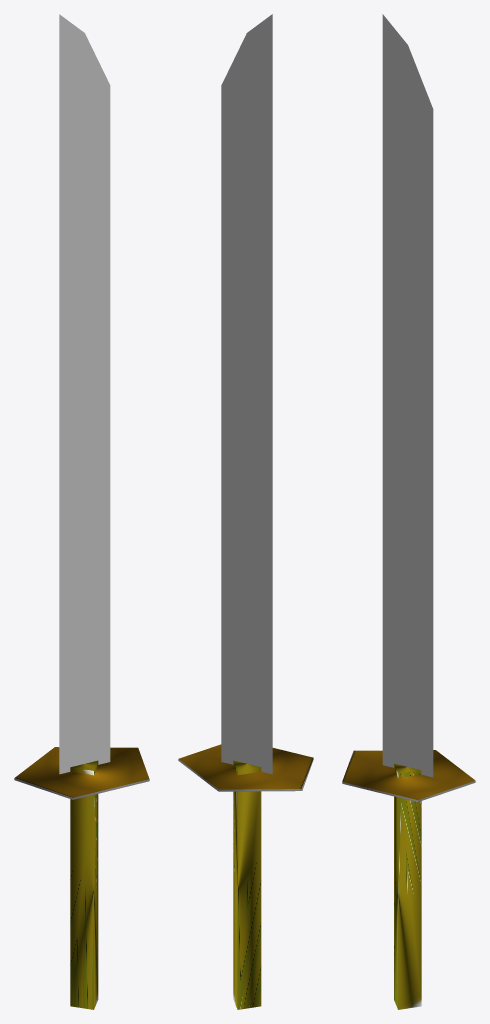
File: Katana.fbx
The picture shows the model from 3 angles, left to right: view 1: azimuth 30°, elevation 25°; view 2: azimuth 150°, elevation 25°; view 3: azimuth 330°, elevation 25°; orthographic projection.
Parts seen in each view (by area): view 1: Plane; view 2: Plane; view 3: Plane.
Part boxes in pixels (box(x1,y1,x2,y2)): Plane: box(14, 14, 149, 1009); Plane: box(178, 14, 313, 1009); Plane: box(342, 14, 475, 1009).
Bounding box in the file's own units: 0.8846 × 6.79 × 0.6995.
